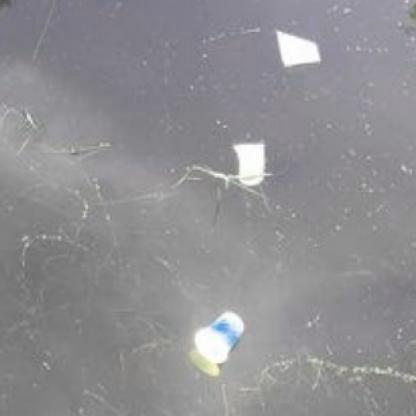Plastic: (191, 307, 246, 373)
Trash: (269, 23, 327, 68), (229, 135, 269, 190)
